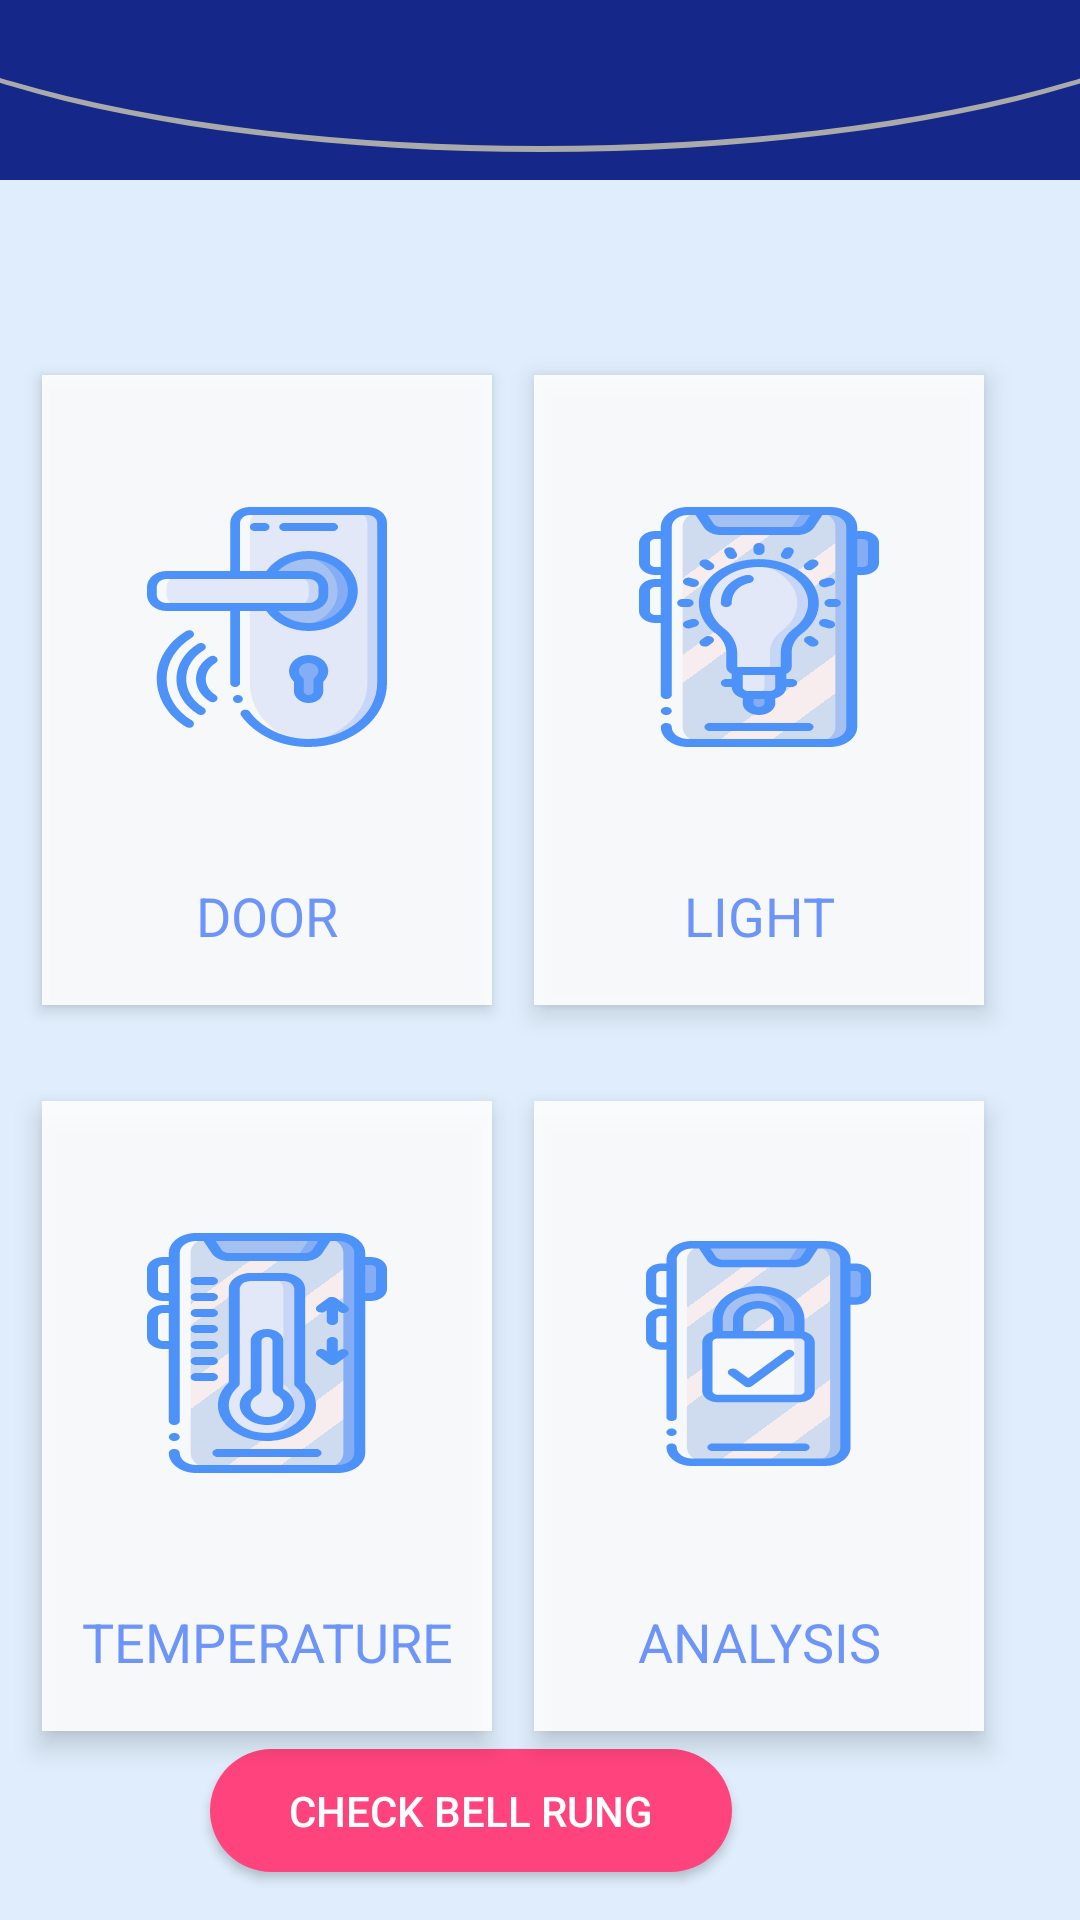

Named icons in this screenshot (1080px×1920px) and their centers, [x,y]:
smart lock: [758,1353]
thermostat: [267,1353]
